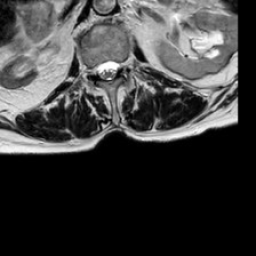CCS_normal: (104, 49, 112, 89)
LFS_normal: (120, 48, 128, 79)
LLS_normal: (112, 51, 120, 83)
RFS_normal: (88, 55, 96, 83)
RLS_normal: (96, 52, 104, 84)
